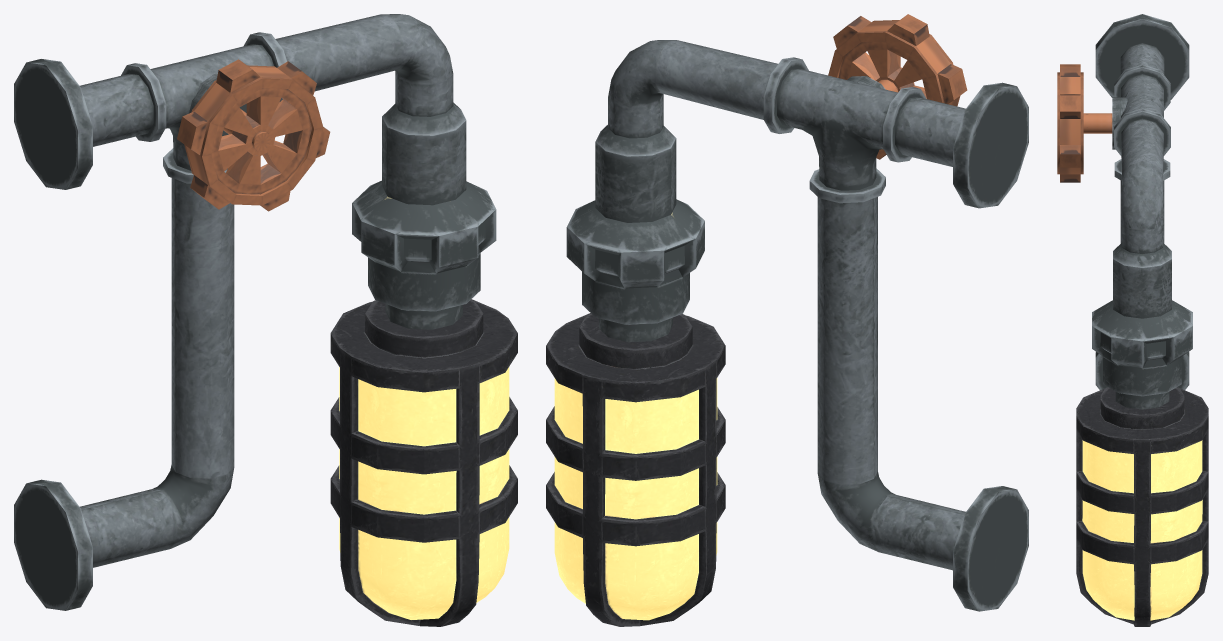
Rendered from steampunk light.fbx.
3 renders of one model, left to right at view 1: azimuth 30°, elevation 25°; view 2: azimuth 150°, elevation 25°; view 3: azimuth 270°, elevation 25°, orthographic. The views are drawn at different scales.
Parts seen in each view (by area): view 1: defaultMaterial.004, defaultMaterial.008, defaultMaterial.009, defaultMaterial.003; view 2: defaultMaterial.004, defaultMaterial.008, defaultMaterial.009, defaultMaterial.003; view 3: defaultMaterial.004, defaultMaterial.008, defaultMaterial.009, defaultMaterial.003.
Boxes of the visible parts, bbox=[...] form: defaultMaterial.004: bbox=[14, 14, 496, 610]; defaultMaterial.008: bbox=[330, 299, 517, 626]; defaultMaterial.009: bbox=[339, 367, 509, 619]; defaultMaterial.003: bbox=[177, 59, 330, 211]; defaultMaterial.004: bbox=[566, 40, 1028, 611]; defaultMaterial.008: bbox=[546, 313, 725, 626]; defaultMaterial.009: bbox=[554, 378, 717, 620]; defaultMaterial.003: bbox=[828, 14, 967, 159]; defaultMaterial.004: bbox=[1092, 14, 1192, 409]; defaultMaterial.008: bbox=[1076, 387, 1208, 626]; defaultMaterial.009: bbox=[1082, 440, 1202, 620]; defaultMaterial.003: bbox=[1057, 64, 1127, 182].
Bounding box in the file's own units: 72.71 × 98.32 × 28.59.
